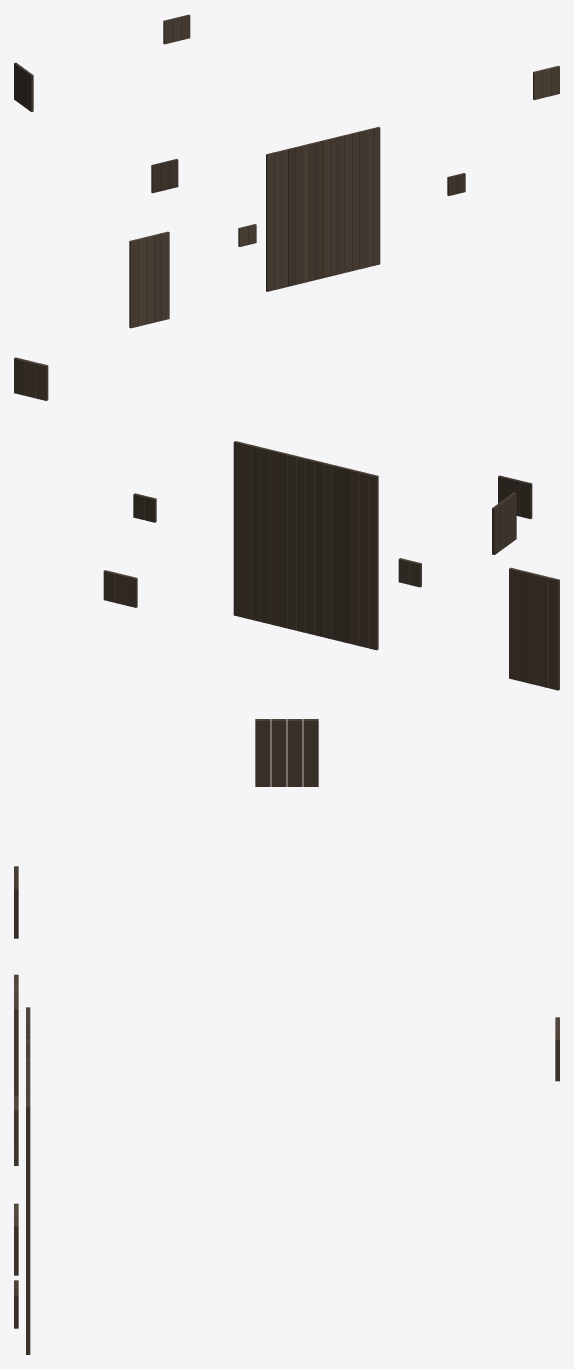
The model's file is SM_Bld_009_Wood.glb.
3 renders of one model, top to bottom at view 1: azimuth 30°, elevation 25°; view 2: azimuth 150°, elevation 25°; view 3: azimuth 270°, elevation 25°, orthographic. The views are drawn at different scales.
Visible parts, largest first — view 1: SM_Bld_009_Wood; view 2: SM_Bld_009_Wood; view 3: SM_Bld_009_Wood.
Boxes of the visible parts, bbox=[...] form: SM_Bld_009_Wood: bbox=[14, 14, 559, 328]; SM_Bld_009_Wood: bbox=[14, 357, 559, 690]; SM_Bld_009_Wood: bbox=[14, 719, 559, 1354].
Bounding box in the file's own units: 10.6 × 4.65 × 5.99.
